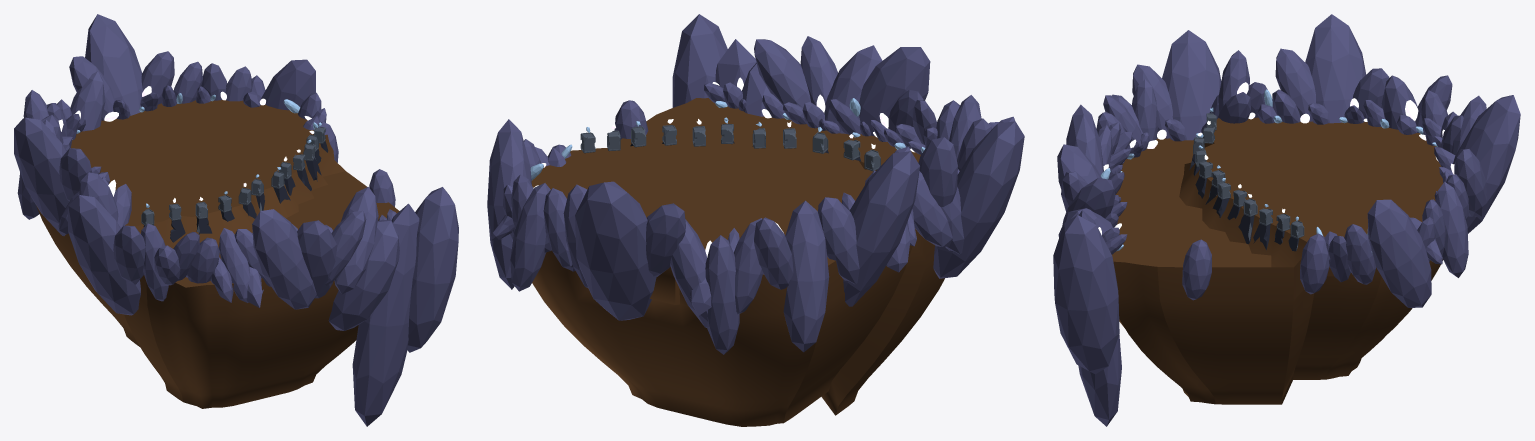
The model's file is mapa_tuto1.2sin_agua.fbx.
3 renders of one model, left to right at view 1: azimuth 30°, elevation 25°; view 2: azimuth 150°, elevation 25°; view 3: azimuth 270°, elevation 25°, orthographic. The views are drawn at different scales.
Visible parts, largest first — view 1: suelo, Icosphere.010, Icosphere.104, Icosphere.117, Icosphere.002, Icosphere.016, Icosphere.078, Icosphere.109, Icosphere, Icosphere.003, Icosphere.012, Icosphere.118 (+23 smaller); view 2: suelo, Icosphere.109, Icosphere.117, Icosphere.016, Icosphere.020, Icosphere.012, Icosphere.002, Icosphere.104, Icosphere.023, Icosphere.077, Icosphere.003, Icosphere.019 (+23 smaller); view 3: suelo, Icosphere.104, Icosphere.012, Icosphere.016, Icosphere.117, Icosphere.109, Icosphere.010, Icosphere.077, Icosphere.015, Icosphere.108, Icosphere.120, Icosphere.002 (+23 smaller).
Boxes of the visible parts, x1=… form: suelo: x1=36, y1=100, x2=399, y2=408; Icosphere.010: x1=352, y1=203, x2=419, y2=426; Icosphere.104: x1=407, y1=187, x2=458, y2=352; Icosphere.117: x1=68, y1=195, x2=140, y2=315; Icosphere.002: x1=252, y1=209, x2=316, y2=309; Icosphere.016: x1=14, y1=117, x2=69, y2=235; Icosphere.078: x1=328, y1=219, x2=399, y2=330; Icosphere.109: x1=85, y1=14, x2=143, y2=115; Icosphere: x1=297, y1=220, x2=336, y2=298; Icosphere.003: x1=334, y1=187, x2=378, y2=294; Icosphere.012: x1=261, y1=59, x2=315, y2=110; Icosphere.118: x1=113, y1=225, x2=145, y2=284; suelo: x1=531, y1=98, x2=944, y2=426; Icosphere.109: x1=575, y1=181, x2=656, y2=320; Icosphere.117: x1=933, y1=121, x2=1024, y2=278; Icosphere.016: x1=843, y1=151, x2=919, y2=306; Icosphere.020: x1=783, y1=200, x2=829, y2=352; Icosphere.012: x1=487, y1=119, x2=531, y2=289; Icosphere.002: x1=859, y1=47, x2=930, y2=136; Icosphere.104: x1=672, y1=14, x2=727, y2=107; Icosphere.023: x1=705, y1=235, x2=739, y2=354; Icosphere.077: x1=510, y1=183, x2=550, y2=291; Icosphere.003: x1=754, y1=39, x2=810, y2=107; Icosphere.019: x1=818, y1=197, x2=859, y2=284; suelo: x1=1112, y1=117, x2=1443, y2=404; Icosphere.104: x1=1053, y1=215, x2=1119, y2=374; Icosphere.012: x1=1367, y1=199, x2=1431, y2=307; Icosphere.016: x1=1305, y1=14, x2=1366, y2=123; Icosphere.117: x1=1162, y1=30, x2=1221, y2=140; Icosphere.109: x1=1451, y1=95, x2=1520, y2=233; Icosphere.010: x1=1078, y1=210, x2=1121, y2=426; Icosphere.077: x1=1435, y1=181, x2=1468, y2=277; Icosphere.015: x1=1275, y1=48, x2=1316, y2=121; Icosphere.108: x1=1454, y1=149, x2=1487, y2=217; Icosphere.120: x1=1182, y1=239, x2=1211, y2=300; Icosphere.002: x1=1066, y1=104, x2=1103, y2=174.
Bounding box in the file's own units: 2247 × 1842 × 2639.
